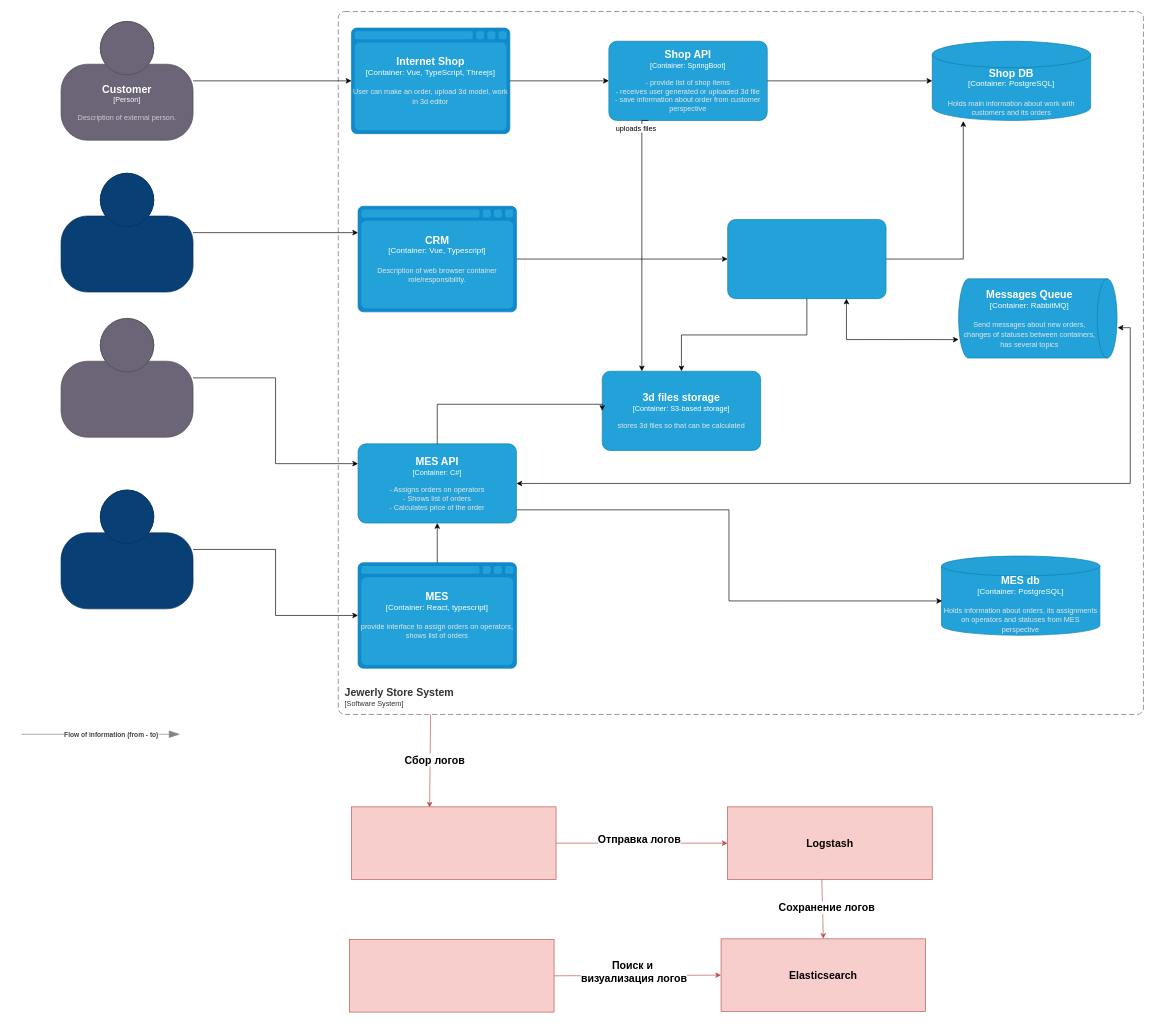
Image size: 1155x1024. Some labels were removed from this diagram. Here are the shapes that lost their labels. From the top down, the centre of each, then its label:
At pixel 126 232: "Seller [Person] Operates with order, confirms manufacturing for the user".
At pixel 806 259: "CRM API [Container: SpringBoot] Description of container role/responsibility.".
At pixel 126 377: "API user [Person] Description of external person.".
At pixel 126 549: "Operator [Person] Takes order in work, manufactures jewerly".
At pixel 453 842: "Filebeat".
At pixel 451 975: "Kibana".
